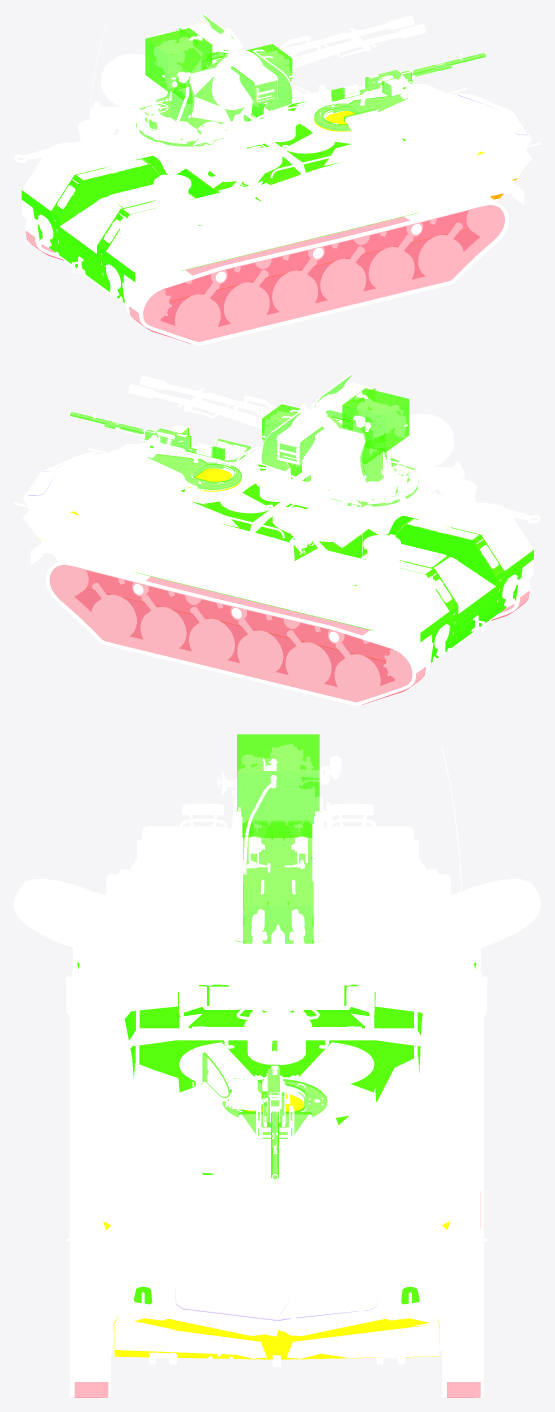
Rendered from BTRZD.gltf.
3 views of the same model, one above another, from view 1: azimuth 30°, elevation 25°; view 2: azimuth 150°, elevation 25°; view 3: azimuth 270°, elevation 25° (orthographic). The views are drawn at different scales.
Parts seen in each view (by area): view 1: 37, BTRD_Tracks_Col_Right2, 37_6, 37_4, 37_1, BTRD_Col, Zu23-2_Weapon_col_73, 37_8, 37_5, 37_3, Kord_Gun_Col2, BTR-D_Kord_Turret_Col2 (+1 smaller); view 2: 37, BTRD_Tracks_Col_Left2, 37_6, 37_4, 37_2.001, BTRD_Col, Zu23-2_Weapon_col_73, 37_8, 37_5, BTR-D_Kord_Turret_Col2, 37_3, 37_10 (+3 smaller); view 3: 37, 37_6, 37_4, Zu23-2_Weapon_col_73, BTRD_Col, 37_8, BTRD_Col_1, 37_3, 37_5, 37_1, 37_2.001, BTR-D_Kord_Turret_Col2 (+3 smaller).
Part boxes in pixels (x1,y1,x2,y2): 37: (20,23,532,340); BTRD_Tracks_Col_Right2: (129,205,504,343); 37_6: (113,14,425,146); 37_4: (14,53,318,193); 37_1: (128,196,509,345); BTRD_Col: (21,101,418,302); Zu23-2_Weapon_col_73: (136,15,292,146); 37_8: (316,76,418,132); 37_5: (154,31,231,121); 37_3: (80,126,295,221); Kord_Gun_Col2: (331,53,485,101); BTR-D_Kord_Turret_Col2: (314,95,407,130); 37: (23,442,535,701); BTRD_Tracks_Col_Left2: (50,565,425,704); 37_6: (128,374,440,506); 37_4: (236,413,540,554); 37_2.001: (45,556,426,705); BTRD_Col: (136,464,533,662); Zu23-2_Weapon_col_73: (261,375,418,506); 37_8: (137,435,251,489); 37_5: (311,388,407,475); BTR-D_Kord_Turret_Col2: (147,439,250,489); 37_3: (259,487,475,580); 37_10: (69,411,212,462); 37: (66,747,487,1366); 37_6: (106,783,450,1044); 37_4: (14,750,540,1046); Zu23-2_Weapon_col_73: (234,734,323,943); BTRD_Col: (77,962,476,1304); 37_8: (192,1054,327,1165); BTRD_Col_1: (103,1093,450,1359); 37_3: (111,930,441,1064); 37_5: (217,744,343,868); 37_1: (69,1017,110,1397); 37_2.001: (442,1017,483,1397); BTR-D_Kord_Turret_Col2: (202,1052,327,1138).
Size of the model in its own units: 6.59 by 3.27 by 3.35.
